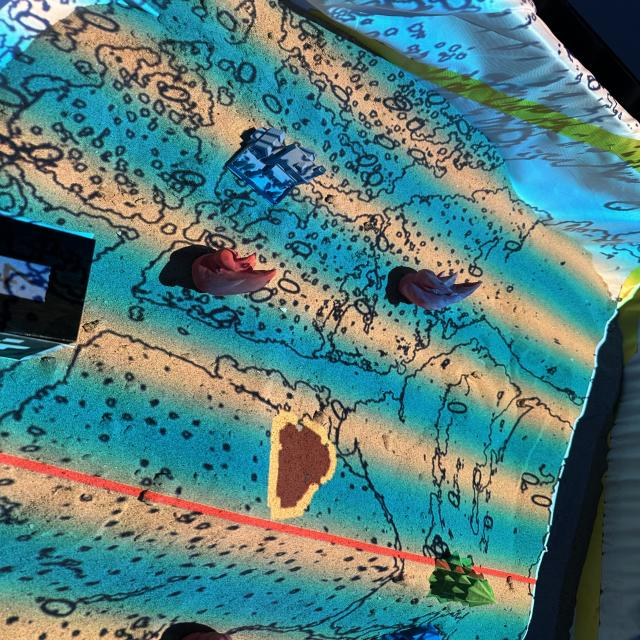fire: (191, 249, 276, 295), (396, 268, 483, 311)
house: (222, 124, 327, 206)
tree: (433, 550, 496, 608)
